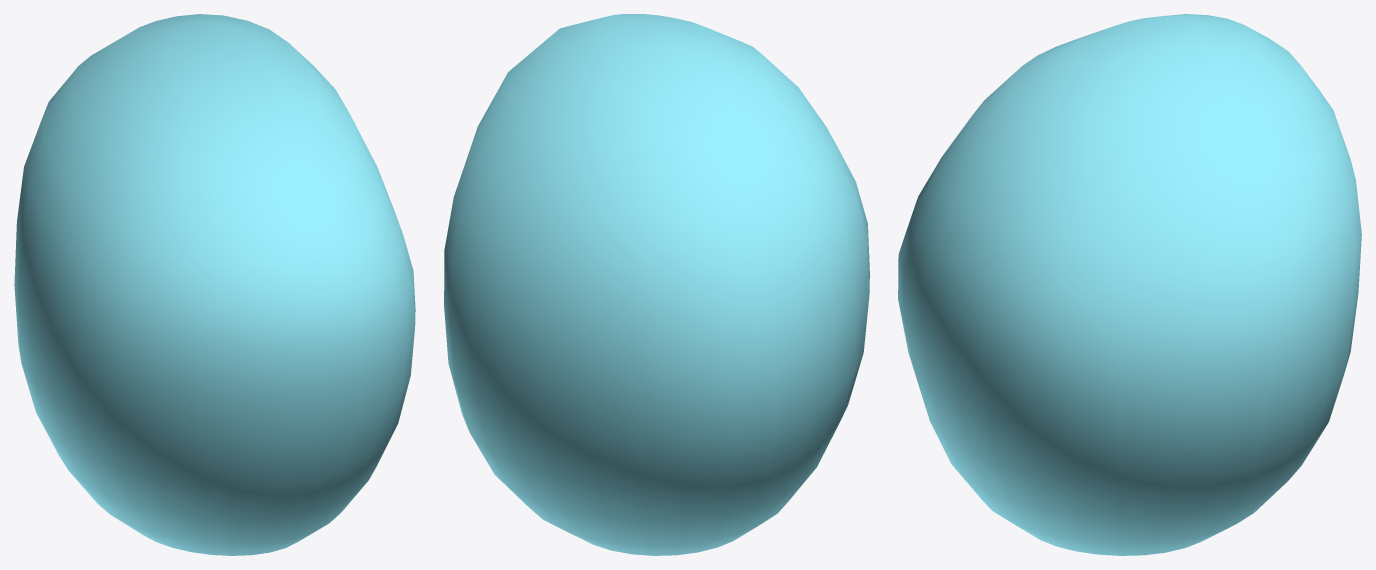
Rendered from cut.fbx.
3 views of the same model, side by side, from view 1: azimuth 30°, elevation 25°; view 2: azimuth 150°, elevation 25°; view 3: azimuth 270°, elevation 25° (orthographic). The views are drawn at different scales.
Visible parts, largest first — view 1: cut_01; view 2: cut_01; view 3: cut_01.
Part boxes in pixels (x1,y1,x2,y2): cut_01: (14,14,415,555); cut_01: (444,14,869,555); cut_01: (898,14,1361,555).
Size of the model in its own units: 192 by 272 by 223.
